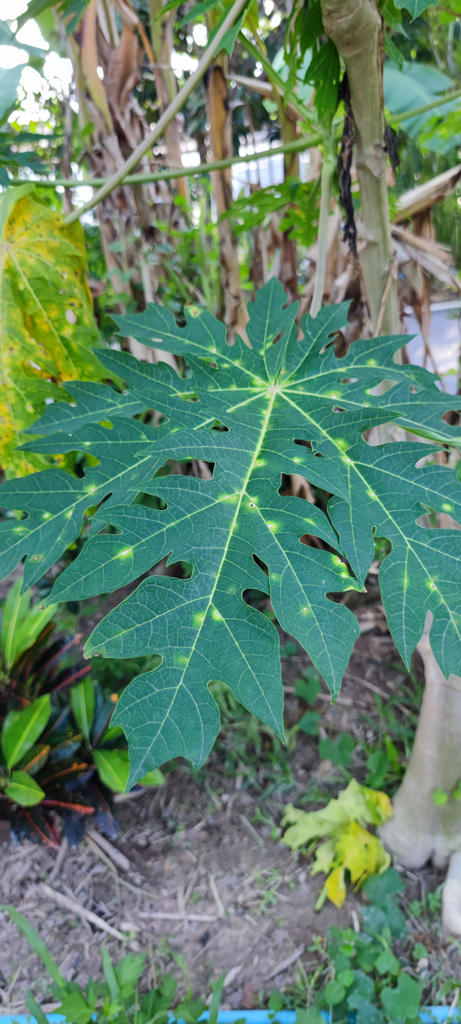Alternaria brassicicola: (194, 328, 393, 419), (314, 424, 382, 510), (175, 577, 232, 676), (216, 479, 285, 546), (27, 477, 102, 538), (265, 566, 317, 631), (303, 547, 360, 593), (395, 549, 443, 602), (245, 448, 309, 475), (104, 540, 149, 566)
